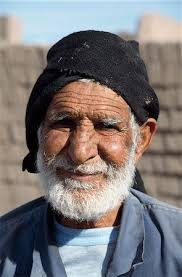middle_eastern_male: (42, 77, 144, 211)
